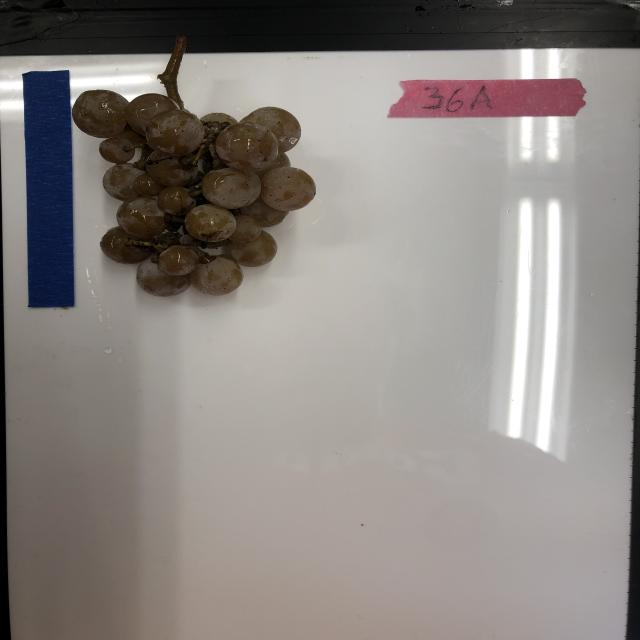grape_cluster: (73, 30, 325, 306)
index: (386, 72, 594, 123)
measure_label: (18, 66, 84, 312)
